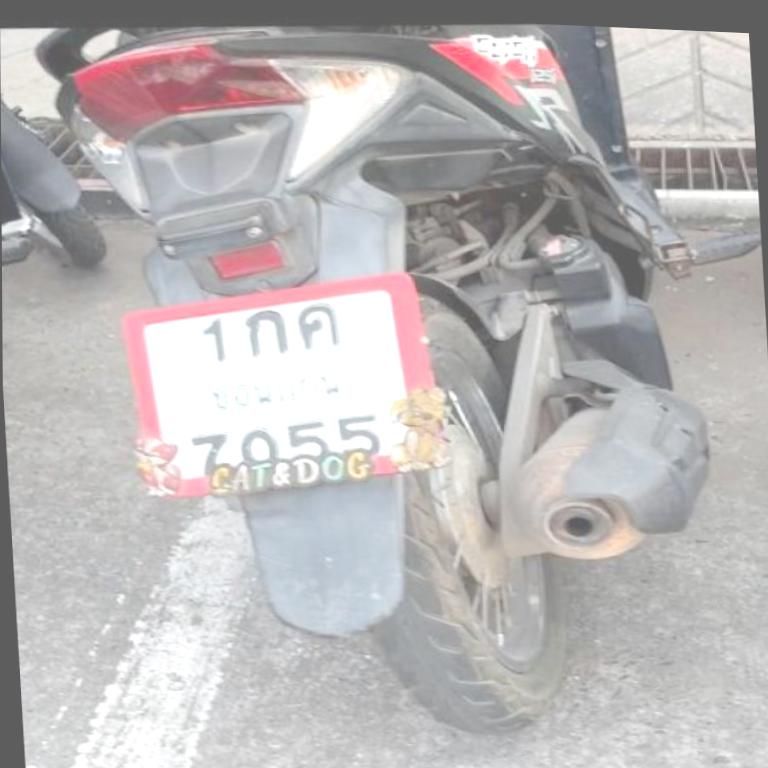license plate: (116, 250, 453, 531)
